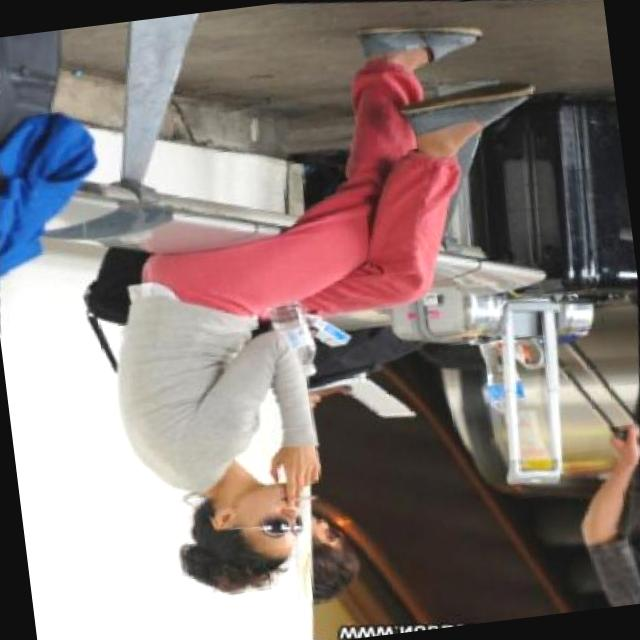cigarette: (255, 440, 328, 505)
